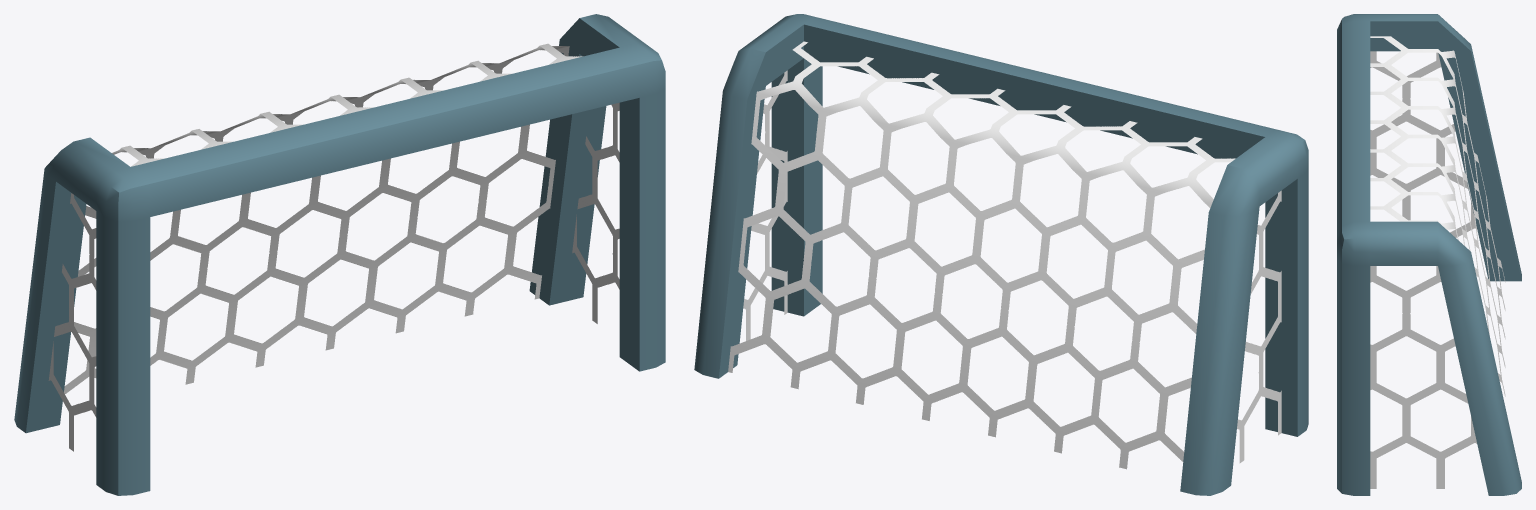
The model's file is Goal.fbx.
3 renders of one model, left to right at view 1: azimuth 30°, elevation 25°; view 2: azimuth 150°, elevation 25°; view 3: azimuth 270°, elevation 25°, orthographic. The views are drawn at different scales.
Parts seen in each view (by area): view 1: Metal, Net; view 2: Metal, Net; view 3: Metal, Net.
Part boxes in pixels (x1=…): Metal: x1=14, y1=14, x2=665, y2=495; Net: x1=48, y1=43, x2=619, y2=451; Metal: x1=694, y1=14, x2=1308, y2=495; Net: x1=728, y1=41, x2=1281, y2=469; Metal: x1=1337, y1=14, x2=1521, y2=495; Net: x1=1370, y1=36, x2=1505, y2=488.
Size of the model in its own units: 639 by 339 by 218.
